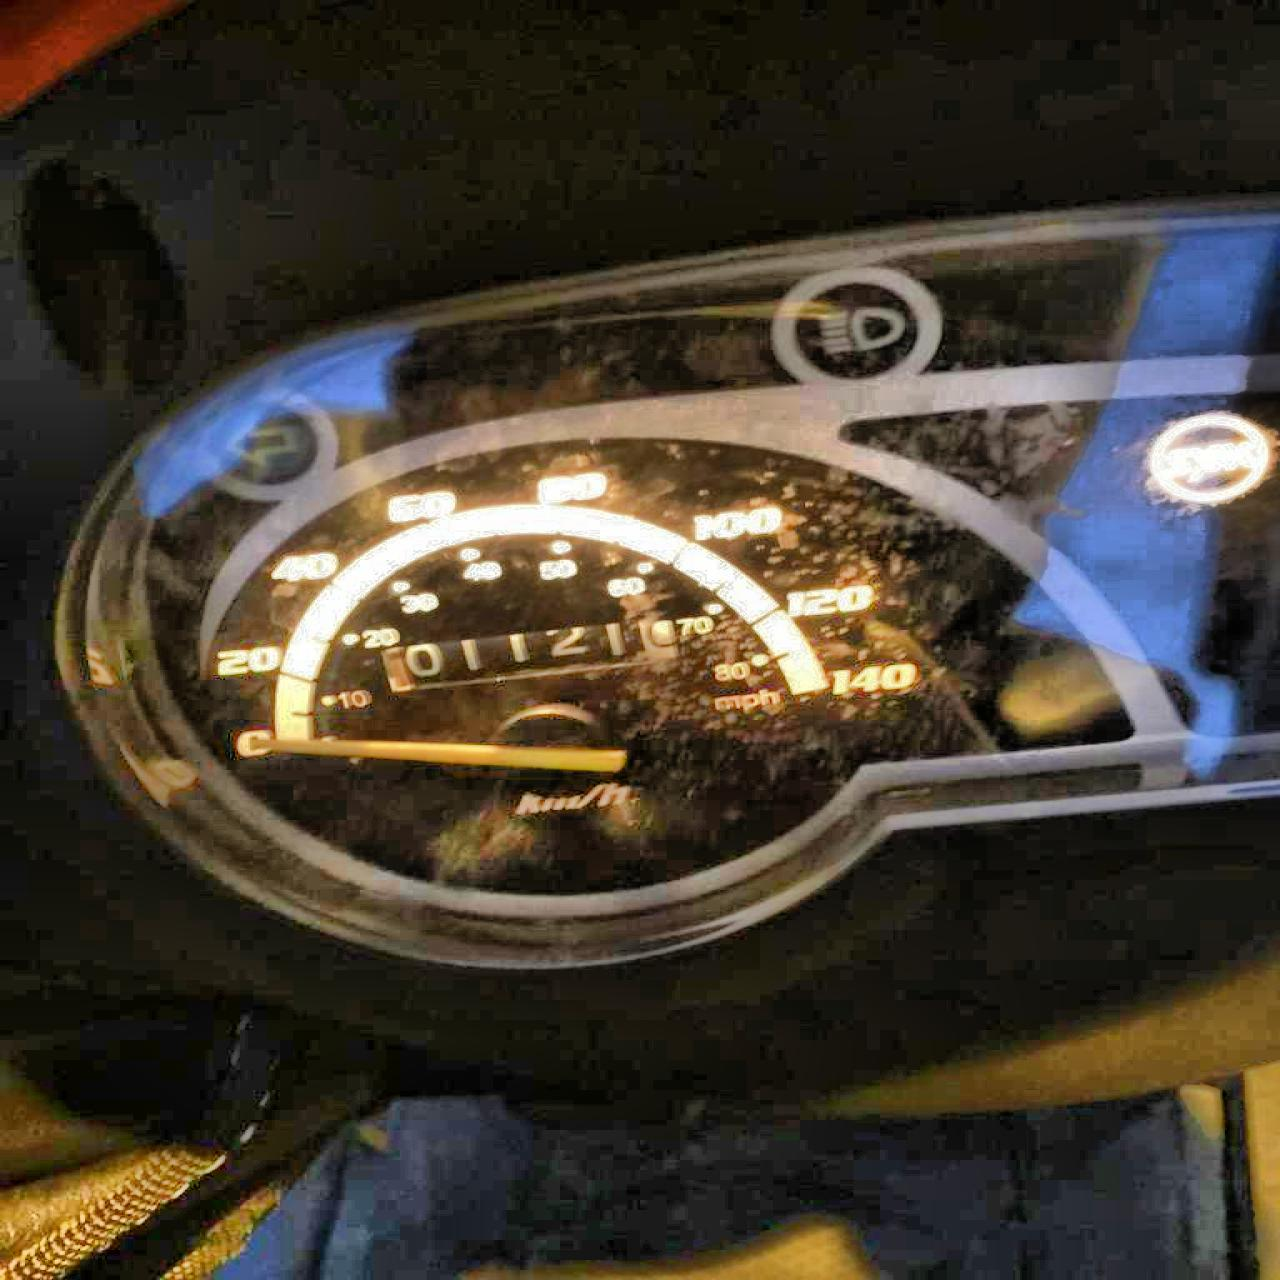0: (403, 640, 442, 676), (641, 618, 679, 652), (379, 626, 400, 645)
1: (600, 620, 627, 659), (502, 626, 526, 663), (457, 633, 478, 673)
2: (543, 622, 590, 656)
7: (675, 617, 692, 636)
odometer: (375, 615, 693, 694)
